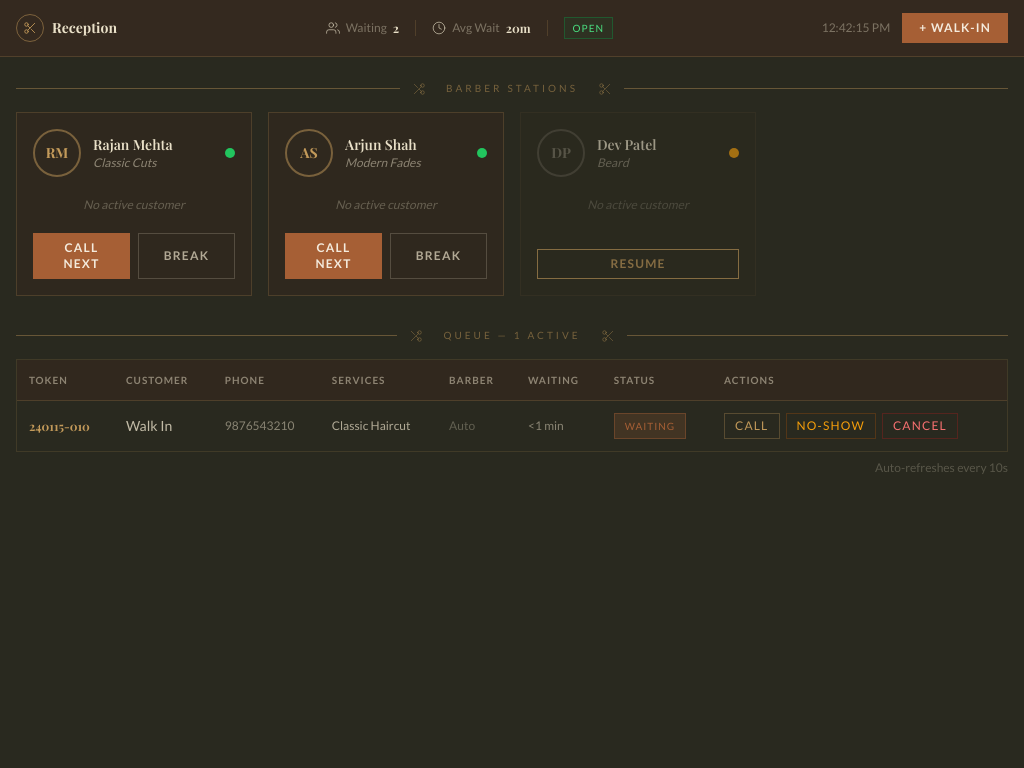
ReceptionPage — walk-in modal › submits the walk-in form with valid data
This screenshot has width=1024, height=768.
Later steps or results of the test are not shown.
Click the button "+ Walk-In": (955,28) [902, 13, 1008, 43]
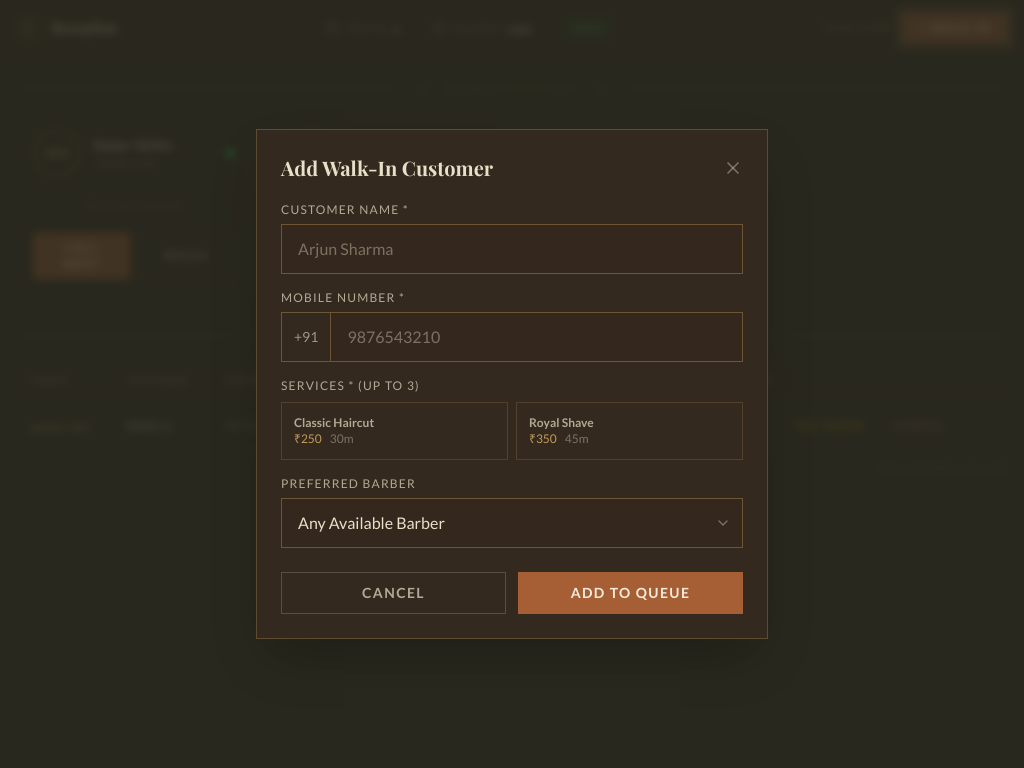
Check: the dialog is shown
